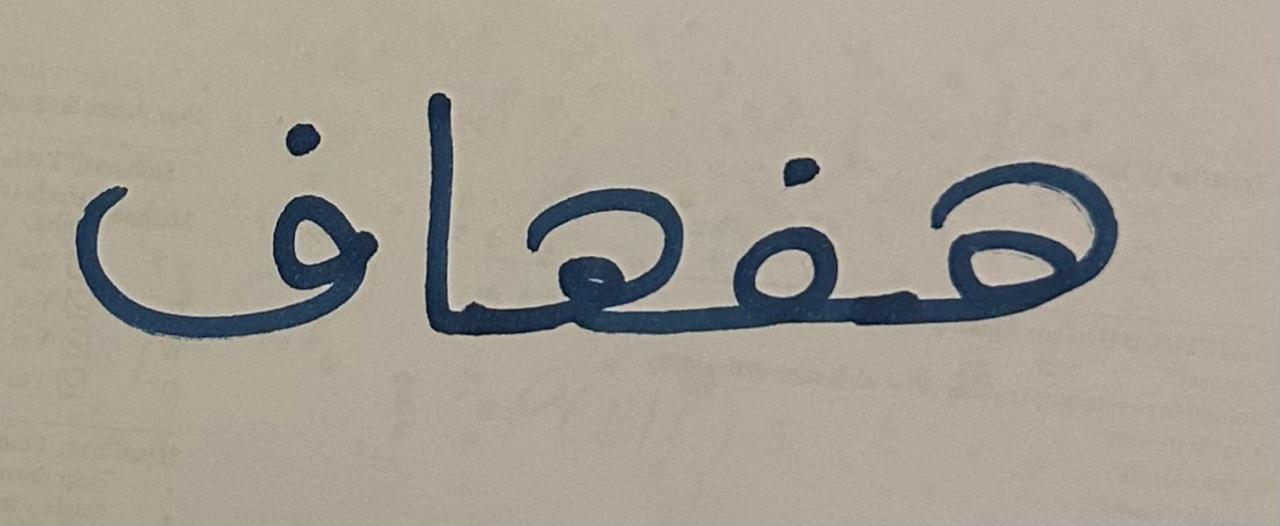alef: (388, 38, 483, 388)
feh: (39, 48, 385, 420), (691, 85, 880, 423)
jeem: (885, 53, 1153, 406), (486, 76, 688, 434)
